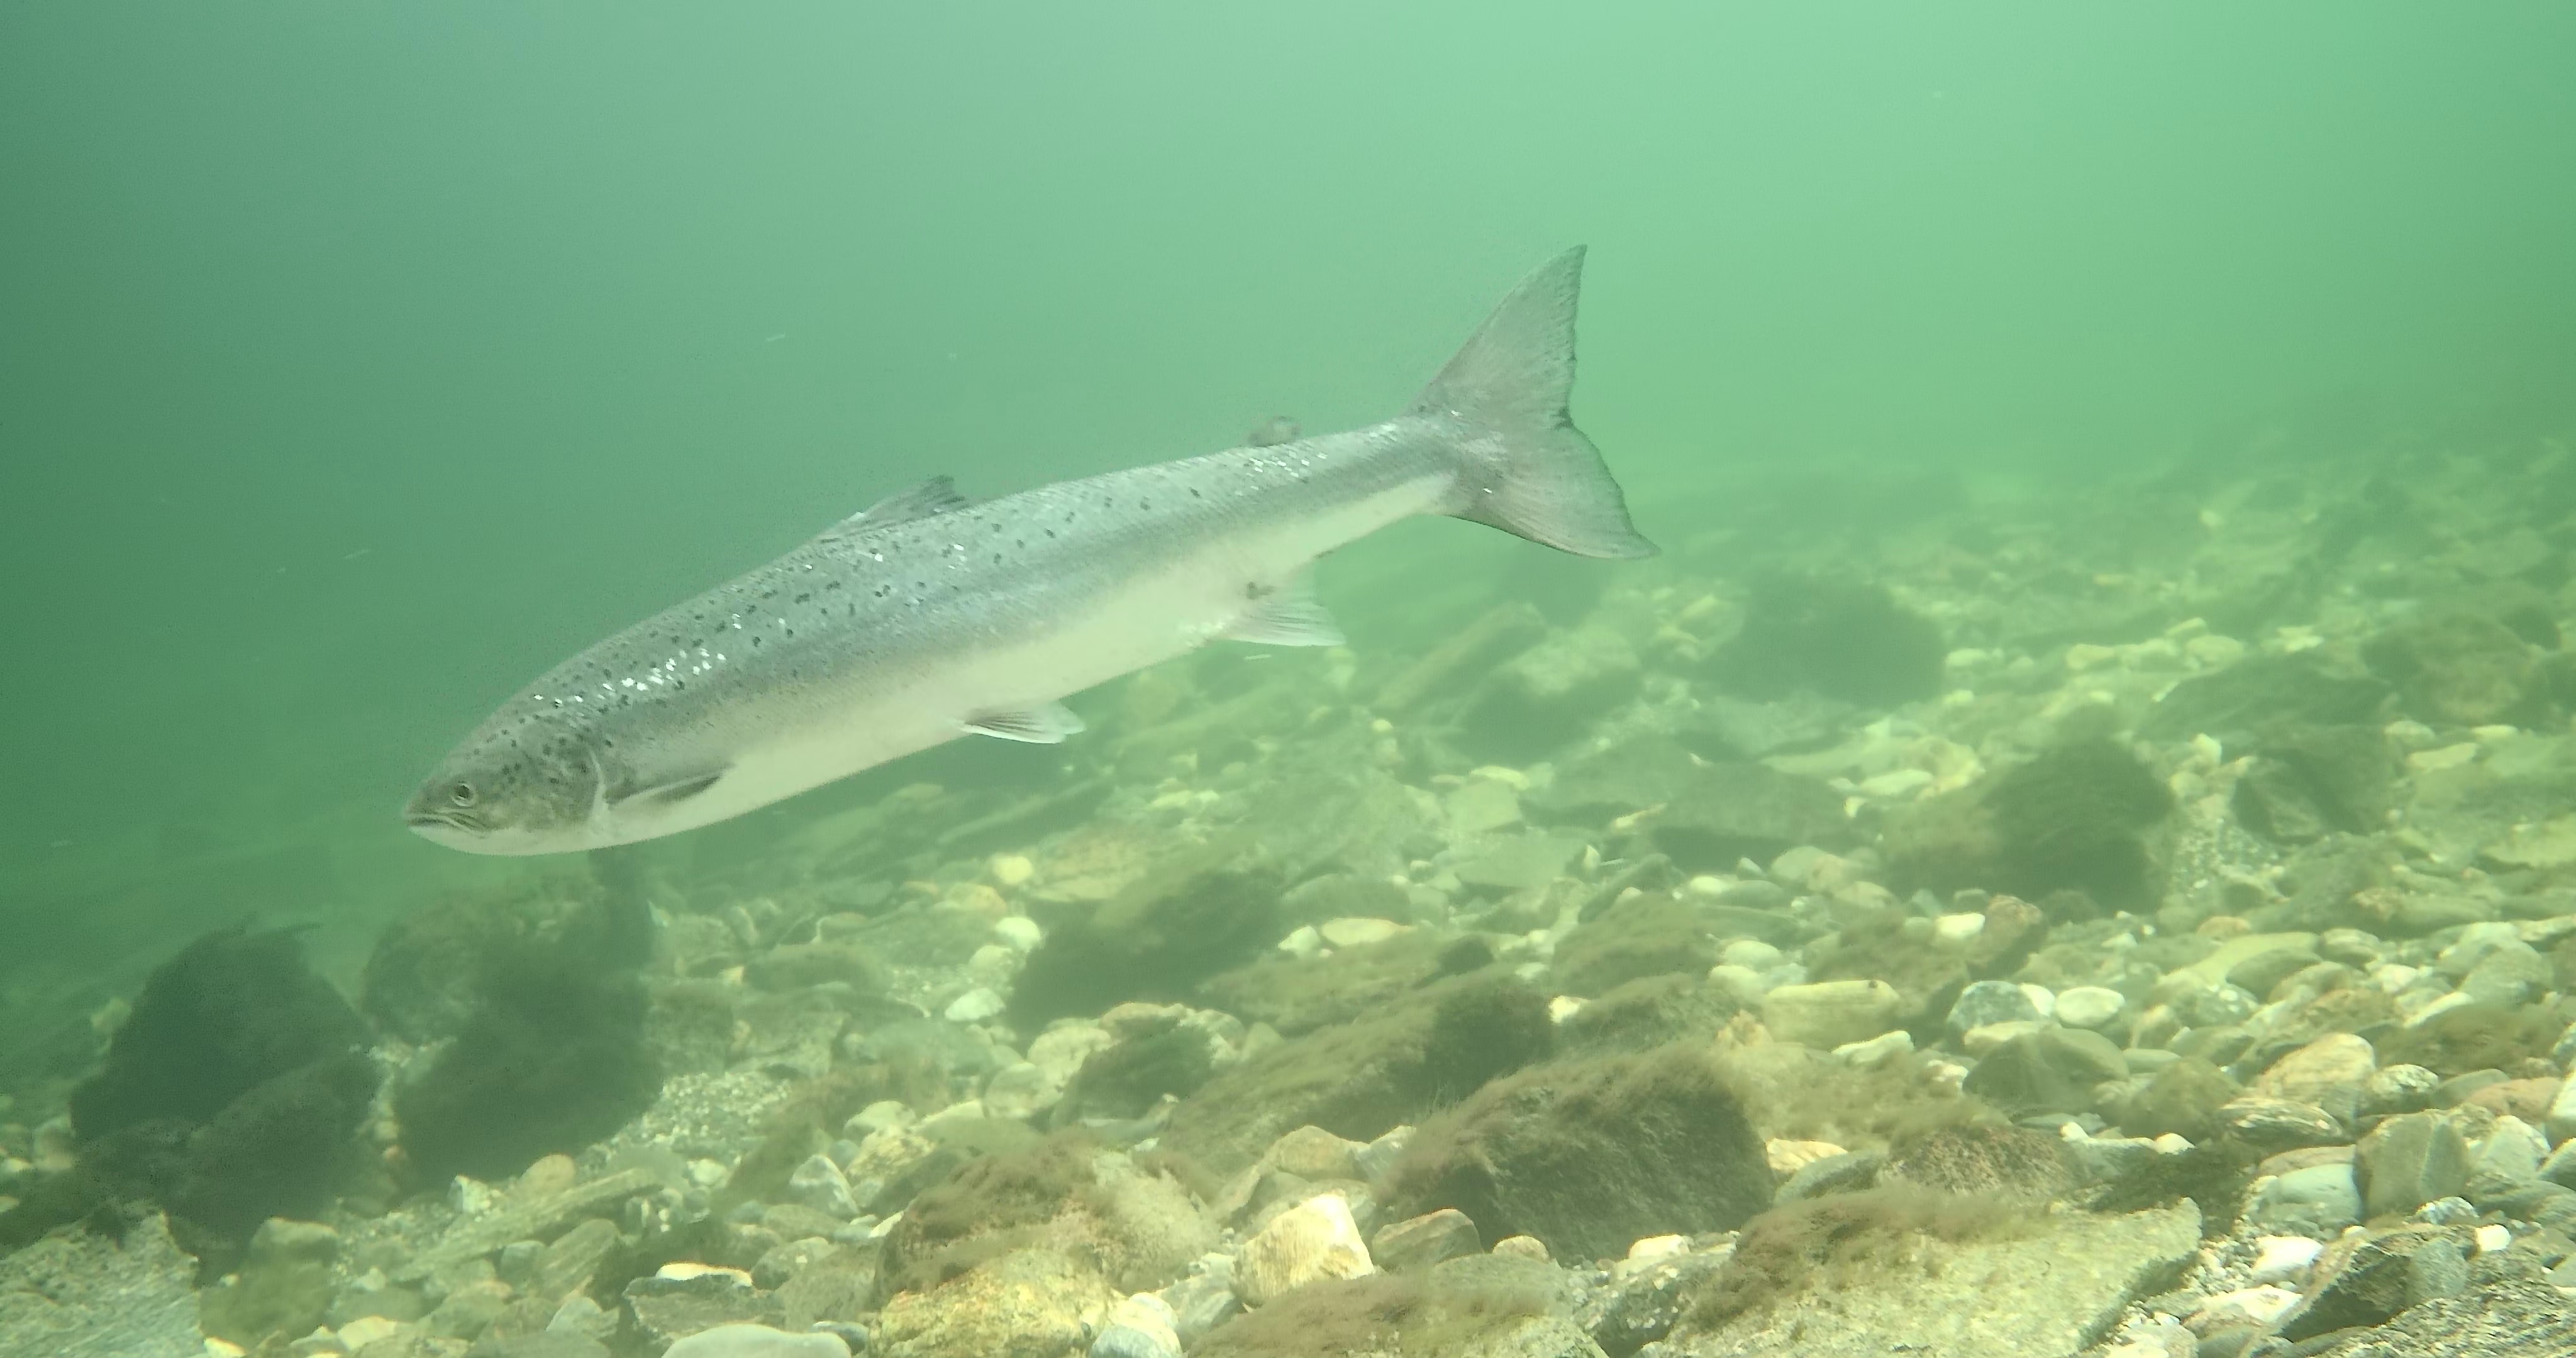salmon: (382, 235, 1656, 864)
